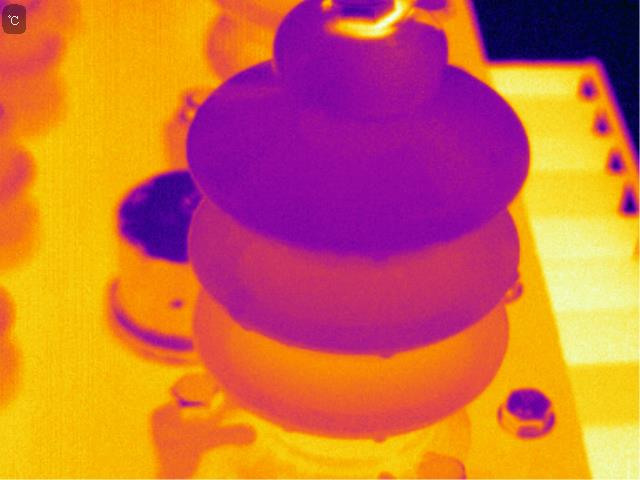Oil: (314, 2, 439, 41), (229, 311, 263, 348), (274, 414, 310, 440), (373, 341, 401, 363), (367, 424, 394, 446)
